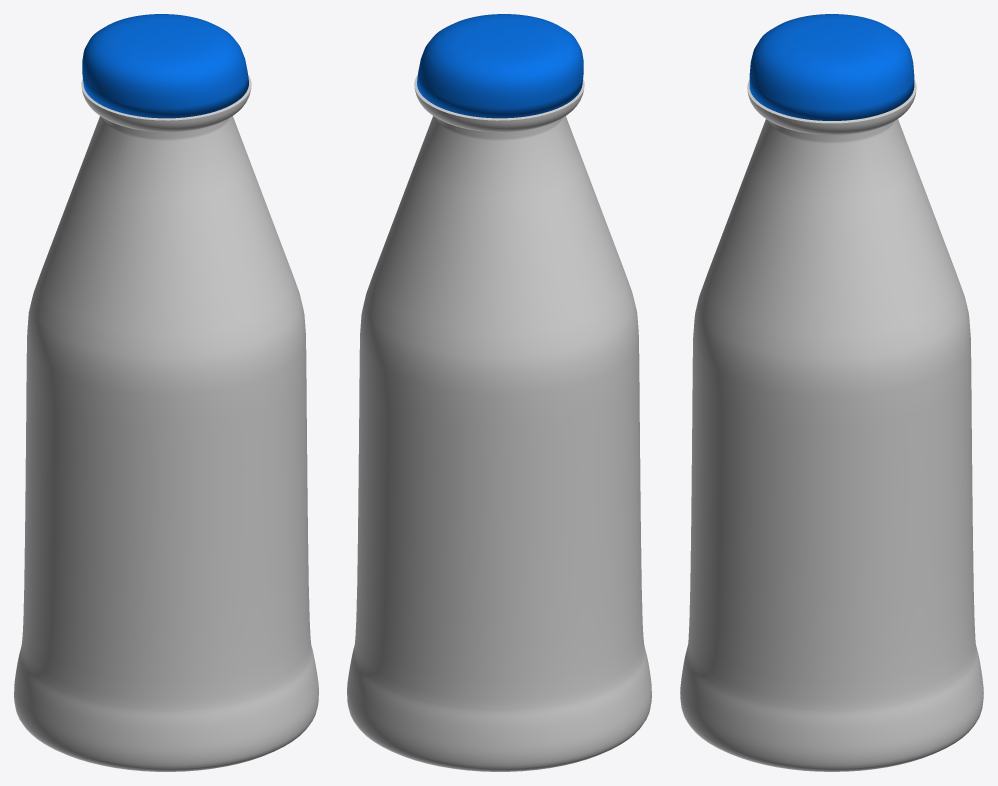
The model's file is Milk_Bottle.fbx.
The picture shows the model from 3 angles, left to right: view 1: azimuth 30°, elevation 25°; view 2: azimuth 150°, elevation 25°; view 3: azimuth 270°, elevation 25°; orthographic projection.
Parts seen in each view (by area): view 1: Milk_Bottle; view 2: Milk_Bottle; view 3: Milk_Bottle.
Part boxes in pixels (left/top/right/bottom): Milk_Bottle: left=14, top=14, right=318, bottom=771; Milk_Bottle: left=347, top=14, right=651, bottom=771; Milk_Bottle: left=680, top=14, right=983, bottom=771.
Size of the model in its own units: 826 by 2037 by 826.
